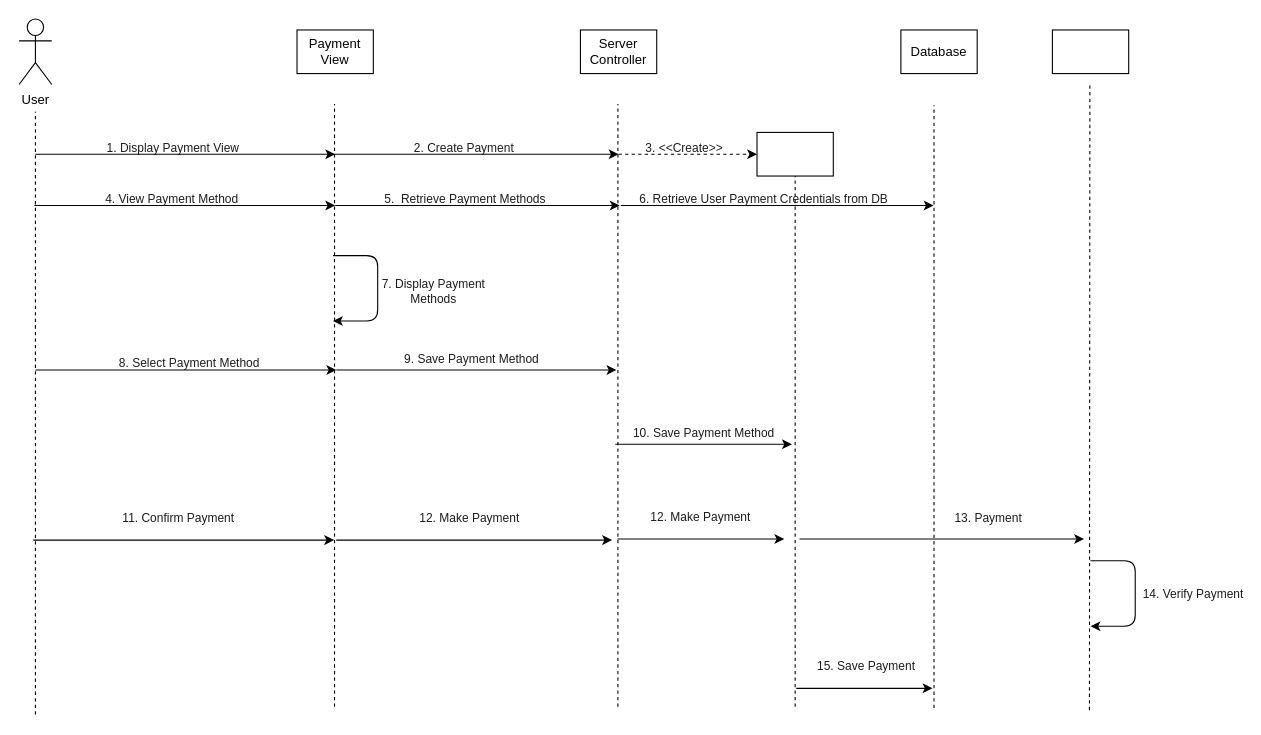
Some shapes in this 1261 by 735 pixel diagram are drawn without their labels. Each missing label, with the centre of its shape:
"Financial Instution" goes at [1090,51].
"Payment" goes at [794,153].
